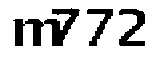2: (116, 6, 146, 54)
7: (82, 5, 115, 51), (57, 6, 80, 50)
m: (10, 15, 60, 53)
